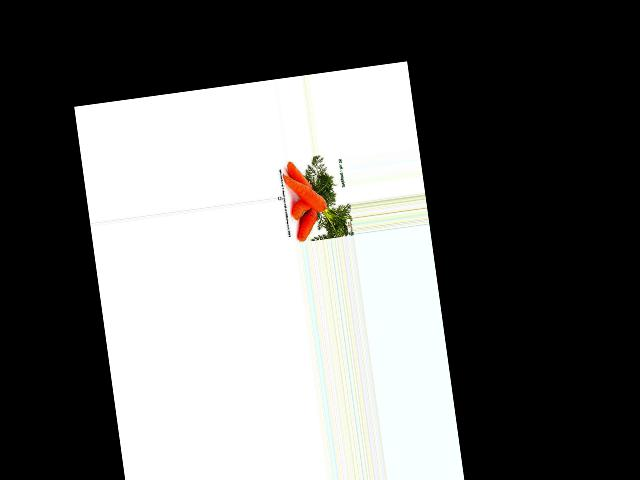carrot: (293, 207, 323, 241)
